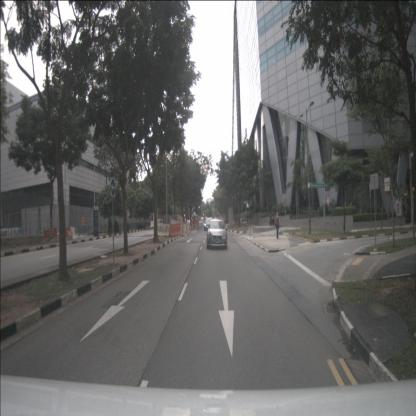barrier: (44, 227, 57, 242), (157, 224, 170, 237), (169, 223, 181, 237), (63, 227, 73, 241), (69, 226, 76, 240), (182, 224, 187, 237), (186, 225, 189, 235), (188, 225, 190, 234)
